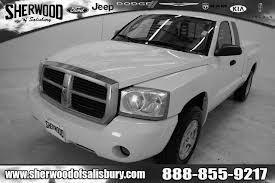car: (25, 11, 266, 165)
